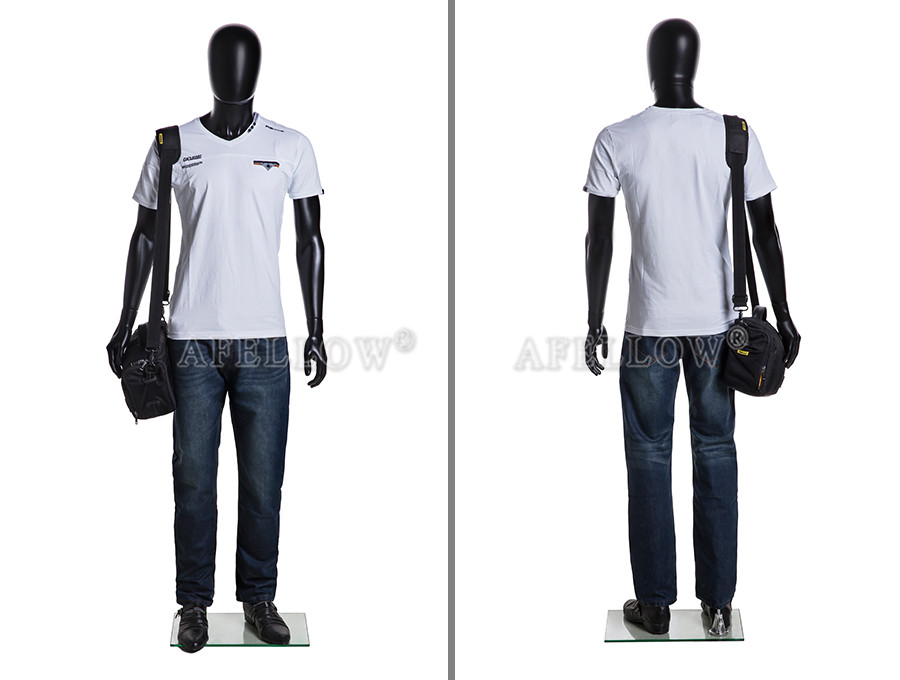person-like: (97, 14, 338, 659), (568, 11, 801, 639)
